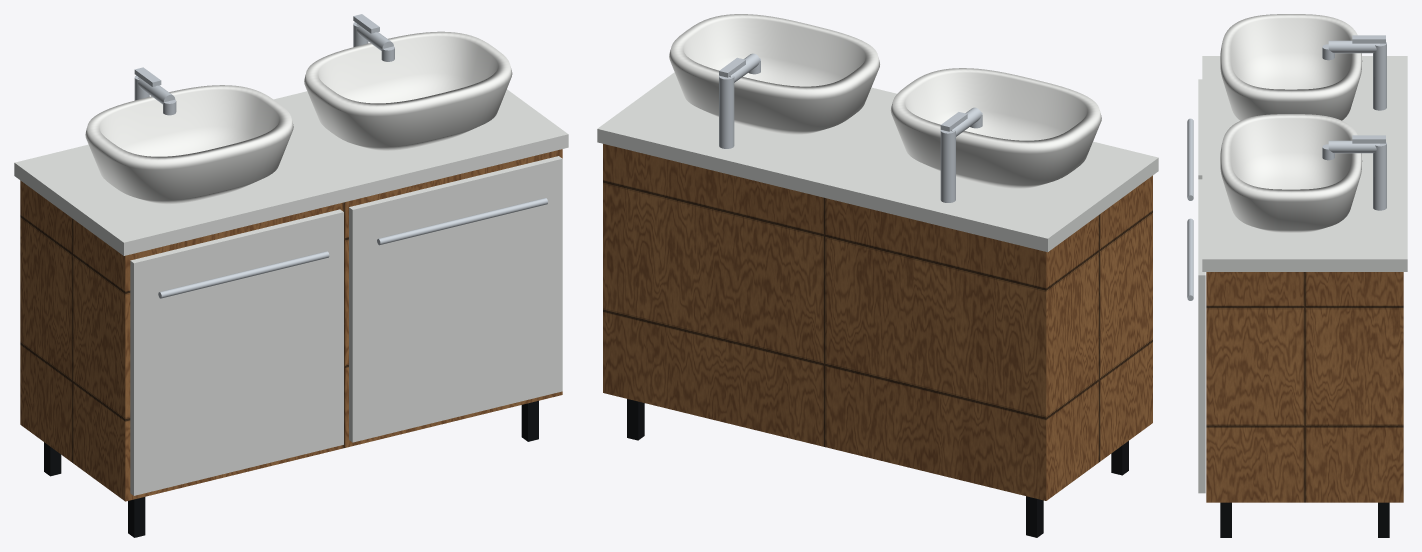
File: Dupla_mosdoszekreny_120.obj
The picture shows the model from 3 angles, left to right: view 1: azimuth 30°, elevation 25°; view 2: azimuth 150°, elevation 25°; view 3: azimuth 270°, elevation 25°; orthographic projection. The views are drawn at different scales.
Bounding box in the file's own units: 1.22 × 1 × 0.558.
5 materials, 1 textured.
